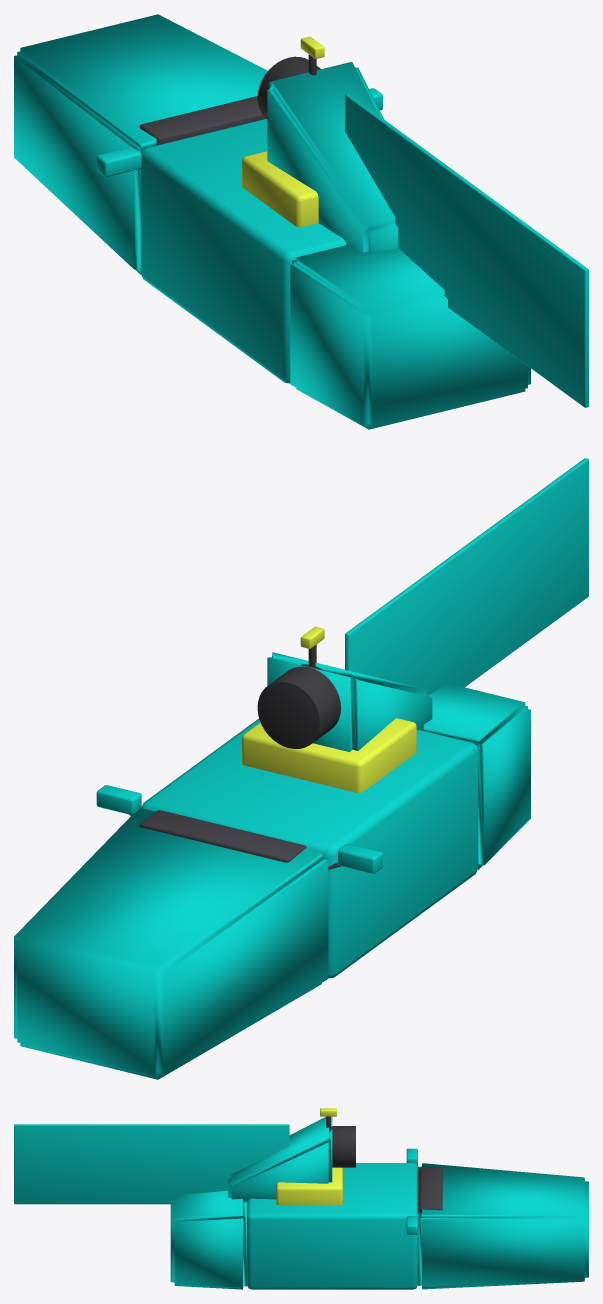
Rendered from f1_monocoque_t800.glb.
The picture shows the model from 3 angles, top to bottom: view 1: azimuth 30°, elevation 25°; view 2: azimuth 150°, elevation 25°; view 3: azimuth 270°, elevation 25°; orthographic projection. The views are drawn at different scales.
Visible parts, largest first — view 1: F1_Monocoque_T800; view 2: F1_Monocoque_T800; view 3: F1_Monocoque_T800.
Part boxes in pixels (<box>): F1_Monocoque_T800: <box>14,14,588,429</box>; F1_Monocoque_T800: <box>14,458,588,1079</box>; F1_Monocoque_T800: <box>14,1108,588,1289</box>.
Size of the model in its own units: 0.97 by 0.8975 by 3.02.
